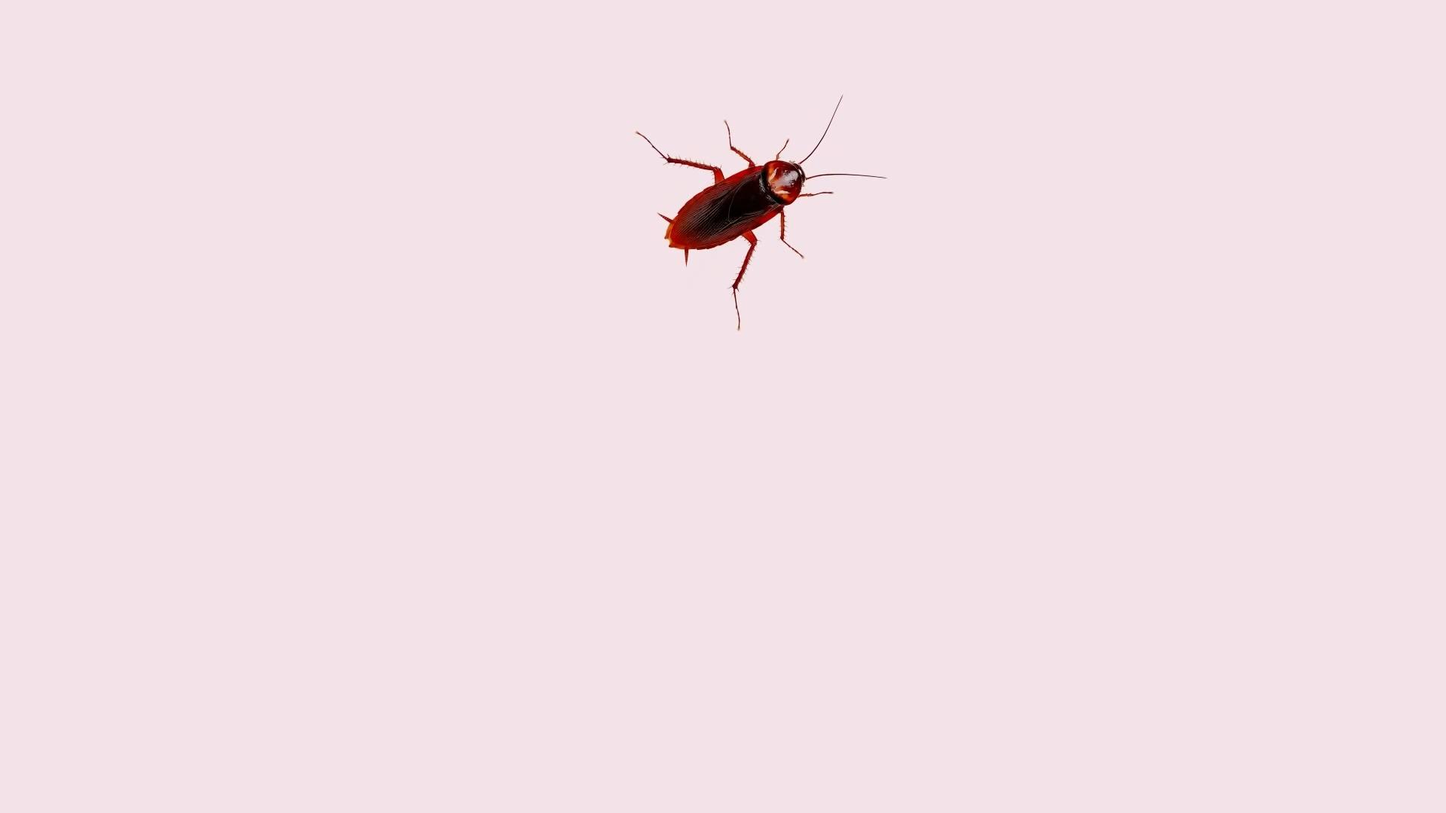cockroach: (623, 81, 874, 327)
